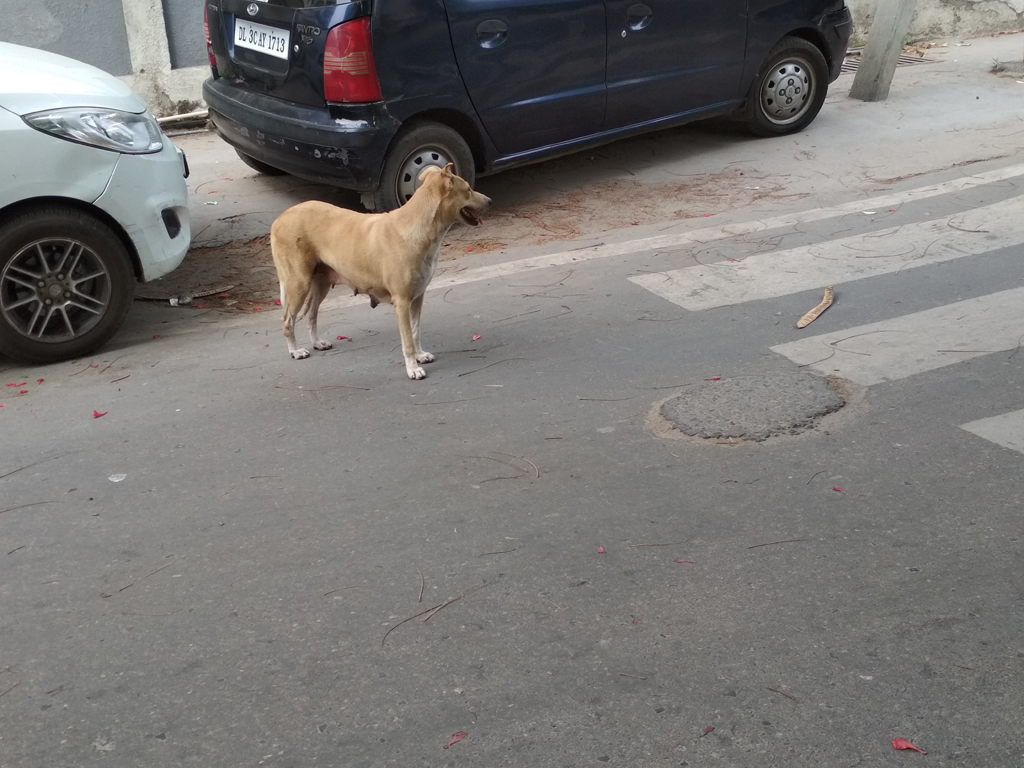dog: (270, 163, 495, 379)
